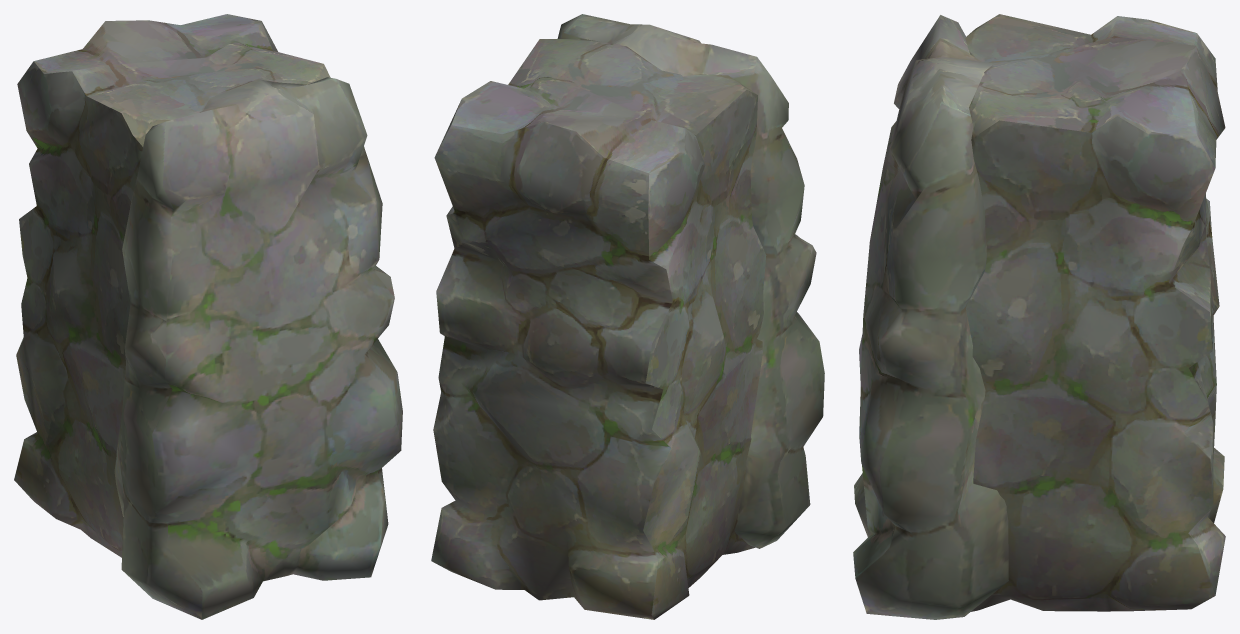
The model's file is Area_Common_Build_RockWall_A_04.fbx.
3 renders of one model, left to right at view 1: azimuth 30°, elevation 25°; view 2: azimuth 150°, elevation 25°; view 3: azimuth 270°, elevation 25°, orthographic. The views are drawn at different scales.
Visible parts, largest first — view 1: Area_Common_Build_RockWall_A_04_Lod0; view 2: Area_Common_Build_RockWall_A_04_Lod0; view 3: Area_Common_Build_RockWall_A_04_Lod0.
Boxes of the visible parts, x1,y1,x2,y2 form: Area_Common_Build_RockWall_A_04_Lod0: (14,14,402,619); Area_Common_Build_RockWall_A_04_Lod0: (431,14,824,619); Area_Common_Build_RockWall_A_04_Lod0: (853,14,1225,619).
Size of the model in its own units: 1.94 by 3.58 by 2.33.
1 material, 1 textured.
